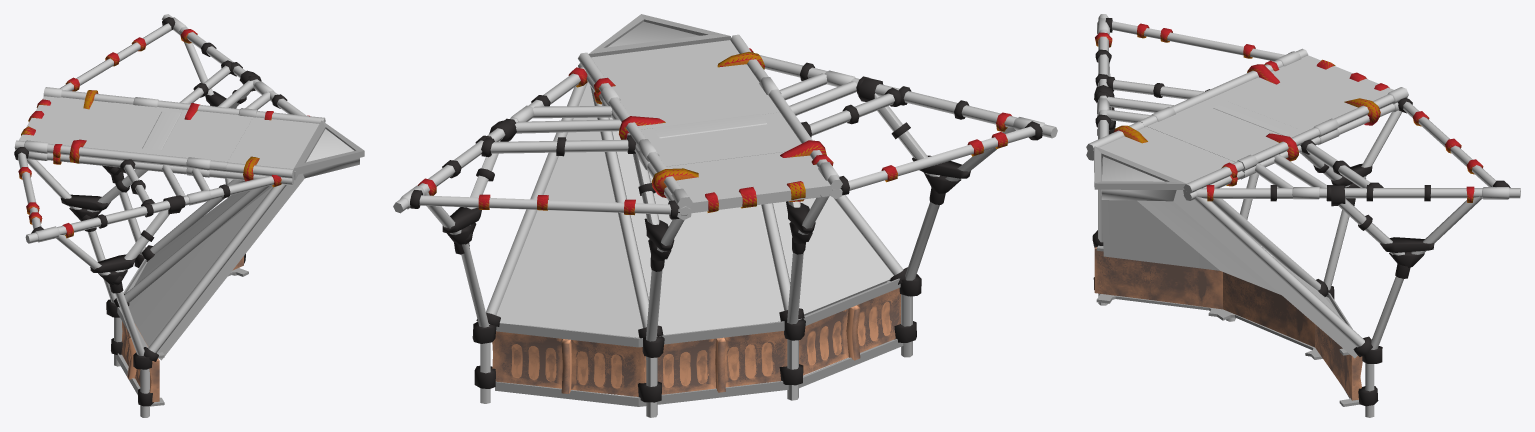
The model's file is builderRoofSlopeCornerExt.fbx.
3 renders of one model, left to right at view 1: azimuth 30°, elevation 25°; view 2: azimuth 150°, elevation 25°; view 3: azimuth 270°, elevation 25°, orthographic. The views are drawn at different scales.
Parts seen in each view (by area): view 1: builderRoofCorner_LOD0, builderRoofCornerFrame_LOD0; view 2: builderRoofCorner_LOD0, builderRoofCornerFrame_LOD0; view 3: builderRoofCorner_LOD0, builderRoofCornerFrame_LOD0.
Boxes of the visible parts, left/top/right/bottom form: builderRoofCorner_LOD0: left=14, top=14, right=364, bottom=417; builderRoofCornerFrame_LOD0: left=14, top=17, right=309, bottom=406; builderRoofCorner_LOD0: left=393, top=14, right=1057, bottom=417; builderRoofCornerFrame_LOD0: left=410, top=48, right=1042, bottom=406; builderRoofCorner_LOD0: left=1086, top=14, right=1520, bottom=417; builderRoofCornerFrame_LOD0: left=1092, top=18, right=1510, bottom=406.
Size of what is drawn, in the model's own units: 4.96 by 3.09 by 5.06.
